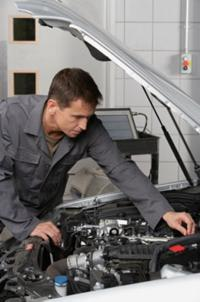person: (1, 66, 197, 251)
